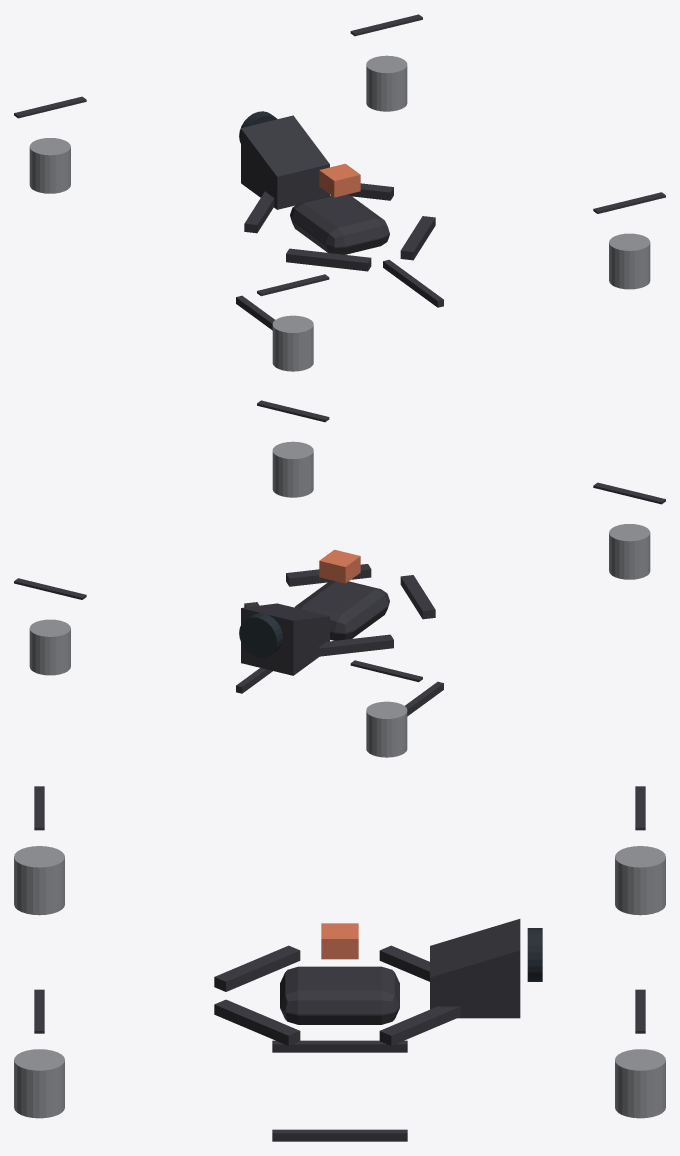
The model's file is Drone.fbx.
3 renders of one model, top to bottom at view 1: azimuth 30°, elevation 25°; view 2: azimuth 150°, elevation 25°; view 3: azimuth 270°, elevation 25°, orthographic. The views are drawn at different scales.
Visible parts, largest first — view 1: Drone_Body; view 2: Drone_Body; view 3: Drone_Body.
Part boxes in pixels (x1=…): Drone_Body: x1=29, y1=55, x2=650, y2=371; Drone_Body: x1=29, y1=441, x2=650, y2=757; Drone_Body: x1=14, y1=846, x2=665, y2=1141.
Size of the model in its own units: 38.5 by 13.7 by 43.4.
